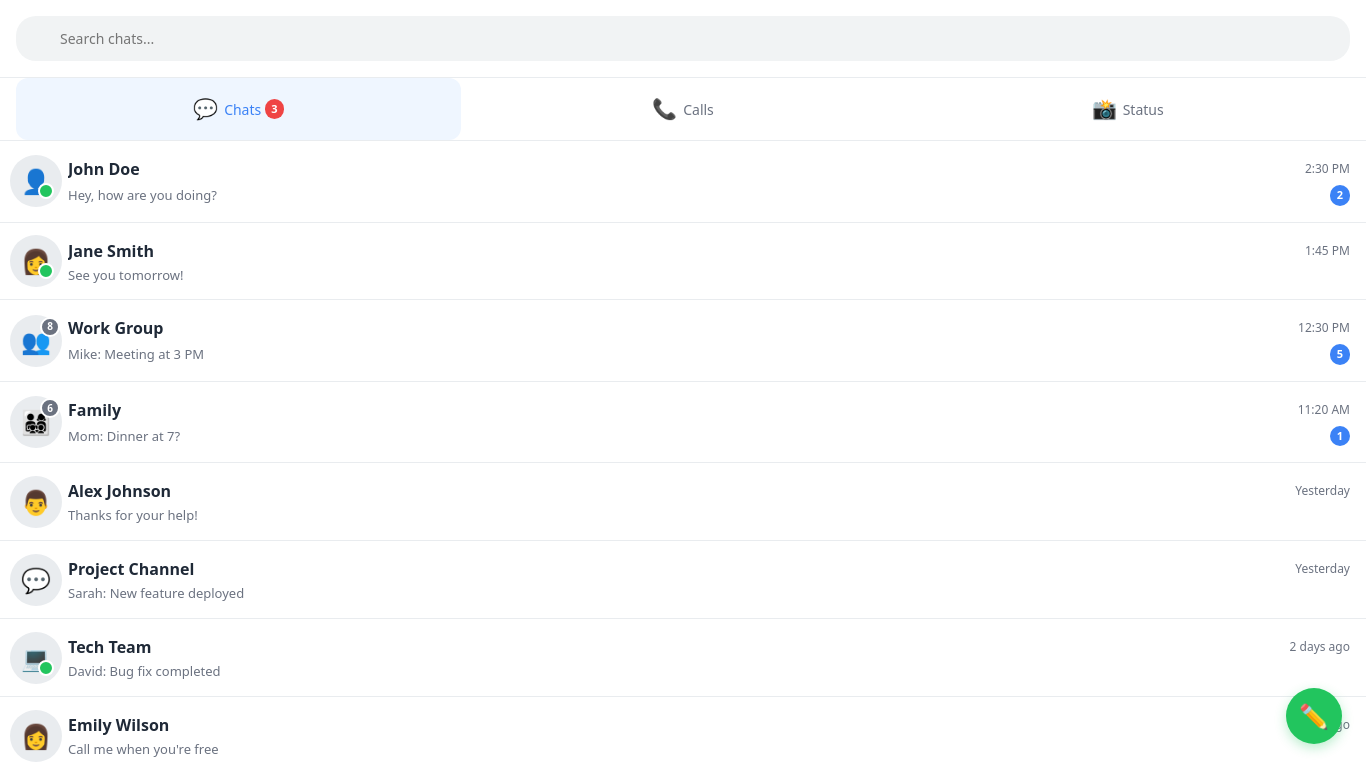
Test: ChatList Component › Functionality › shows empty state for status tab
Note: Click on Status tab
Click the text "Status" at (1143, 109), box [1123,98,1164,120]
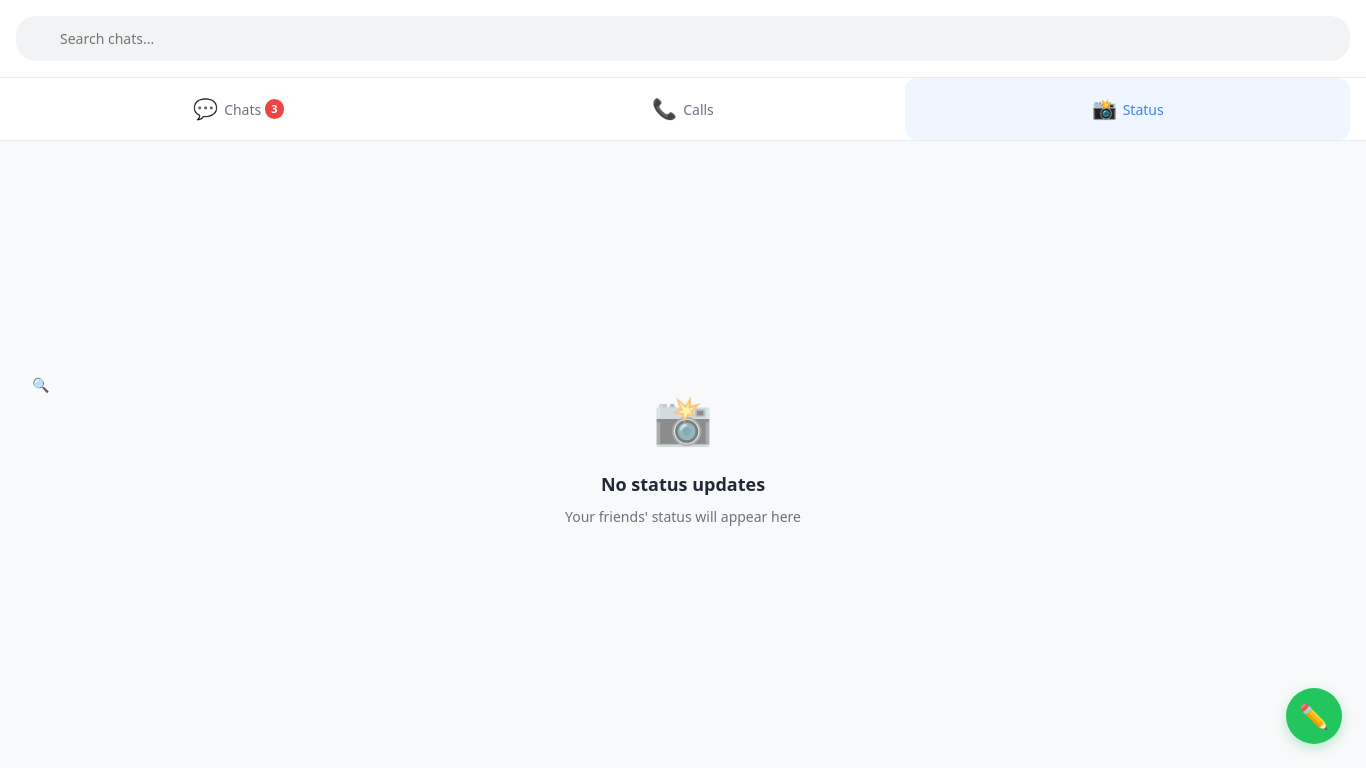
Expected: the text "No status updates" is shown, [601,470,765,498]
Expected: the text "Your friends' status will appear here" is shown, [565,506,801,526]
